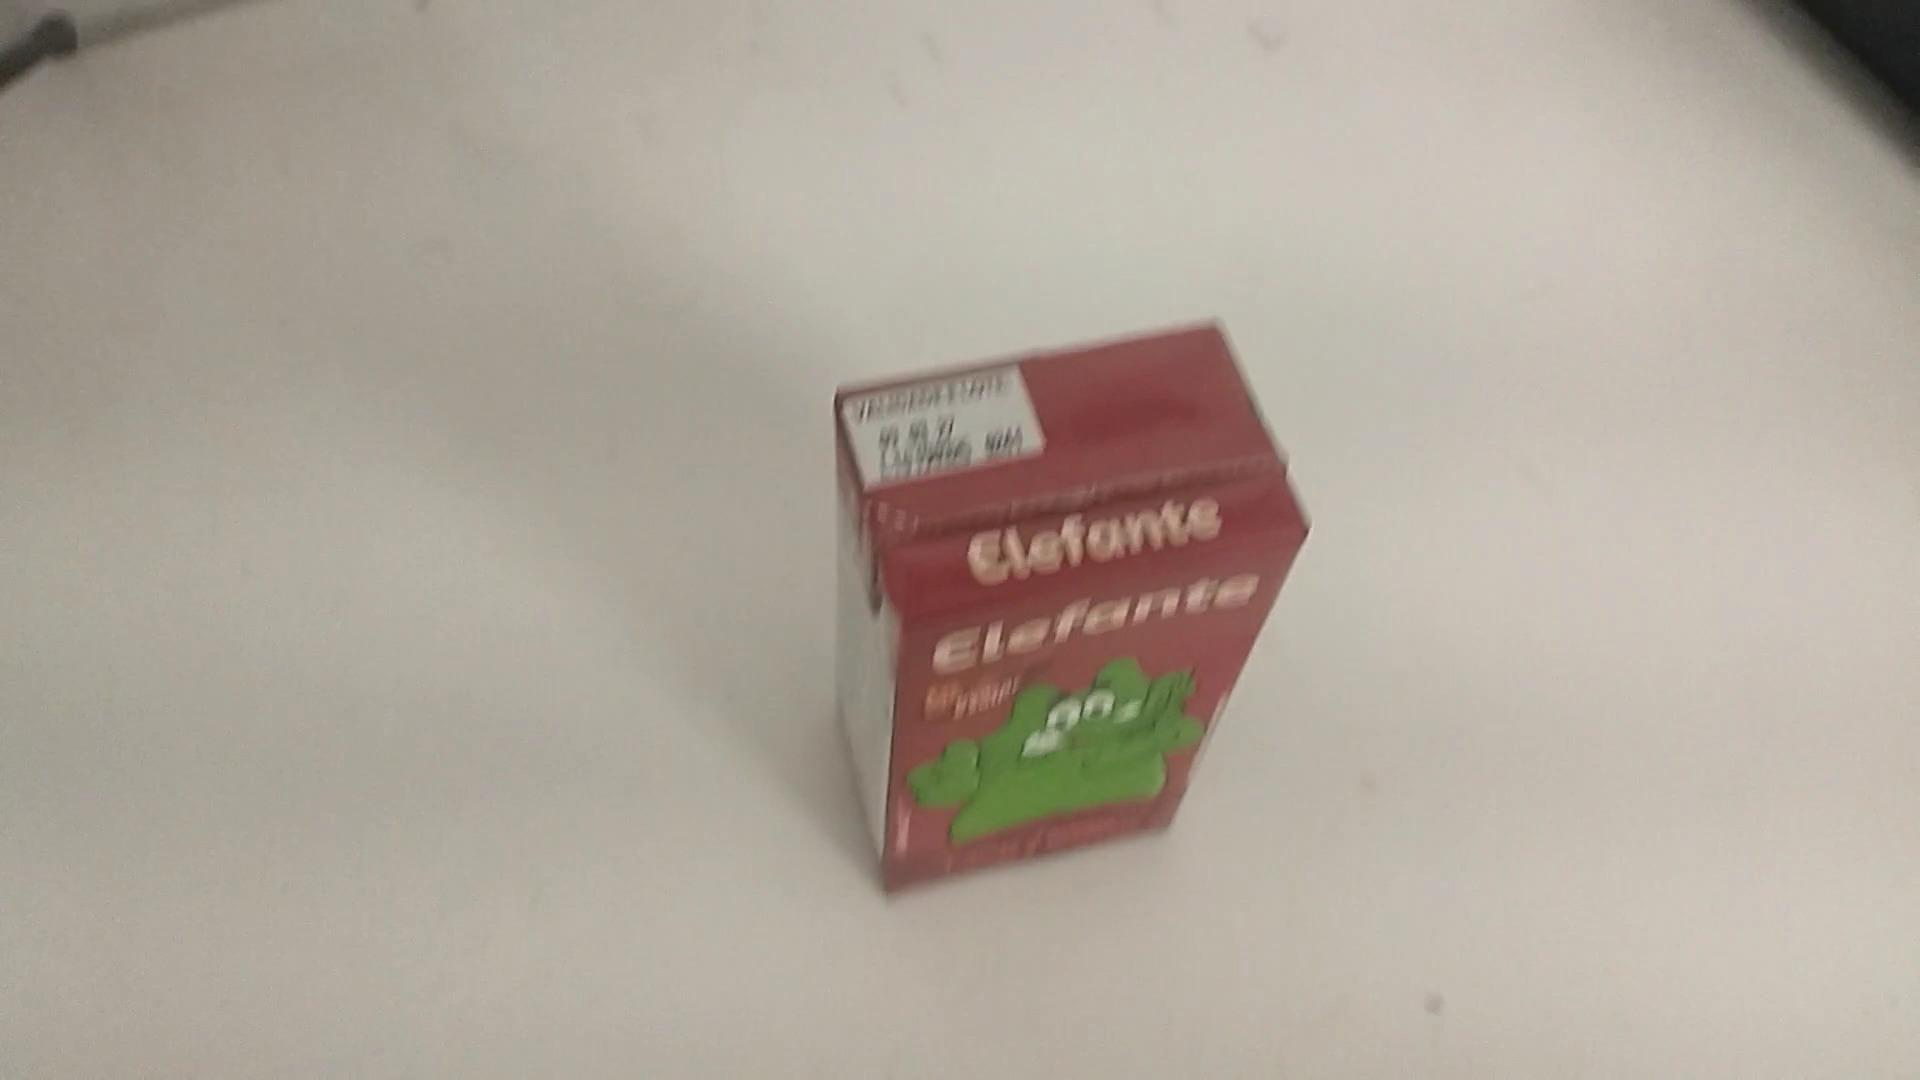tomate: (812, 303, 1313, 893)
